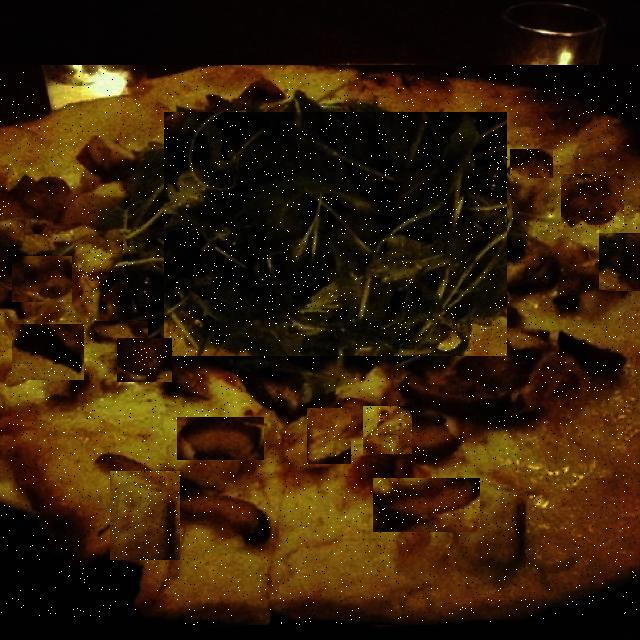Mushrooms: (110, 471, 180, 560), (374, 478, 482, 532), (133, 374, 234, 420), (12, 324, 84, 380), (177, 417, 264, 460), (562, 174, 626, 228), (470, 457, 534, 509), (74, 244, 128, 304), (12, 256, 72, 302), (307, 408, 351, 464), (117, 338, 172, 382), (599, 233, 640, 291), (363, 406, 412, 454), (267, 395, 310, 441), (550, 362, 602, 398), (94, 321, 148, 352), (510, 149, 553, 178)
Pizza: (0, 65, 640, 625)
Rucola: (164, 112, 507, 356)
